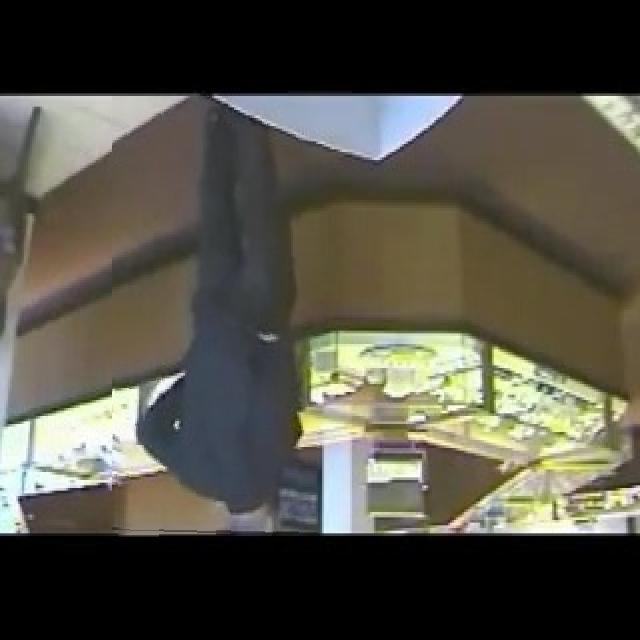normal: (112, 96, 316, 536)
